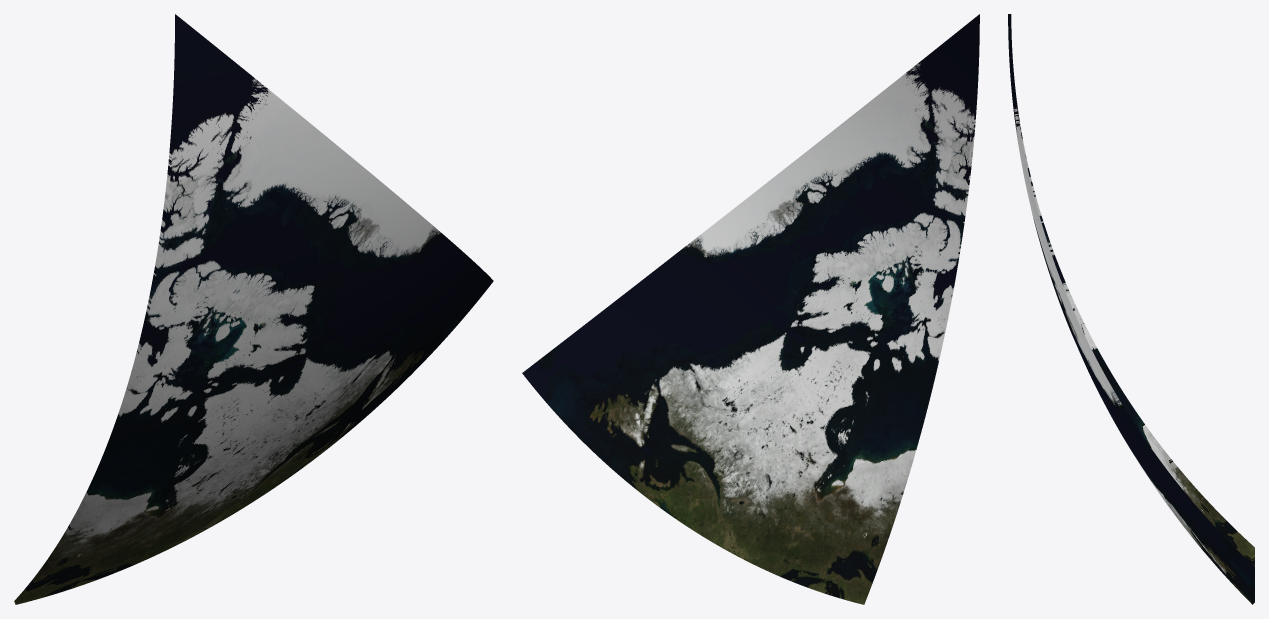
3 views of the same model, side by side, from view 1: azimuth 30°, elevation 25°; view 2: azimuth 150°, elevation 25°; view 3: azimuth 270°, elevation 25° (orthographic). The views are drawn at different scales.
Visible parts, largest first — view 1: DefaultName.007, DefaultName.005, DefaultName.001, DefaultName.003; view 2: DefaultName.005, DefaultName.007, DefaultName.003, DefaultName.001; view 3: DefaultName.005, DefaultName.007, DefaultName.003, DefaultName.001.
Boxes of the visible parts, x1,y1,x2,y2 form: DefaultName.007: (14, 305, 287, 604); DefaultName.005: (274, 193, 493, 487); DefaultName.001: (133, 14, 275, 367); DefaultName.003: (177, 16, 393, 304); DefaultName.005: (522, 185, 848, 520); DefaultName.007: (679, 265, 949, 604); DefaultName.003: (764, 15, 977, 264); DefaultName.001: (848, 14, 979, 310); DefaultName.005: (1071, 314, 1254, 604); DefaultName.007: (1074, 303, 1254, 566); DefaultName.003: (1008, 14, 1074, 333); DefaultName.001: (1011, 40, 1074, 312).
Size of the model in its own units: 31944 by 45176 by 18870.
Materials: 4 (4 with a texture image).
